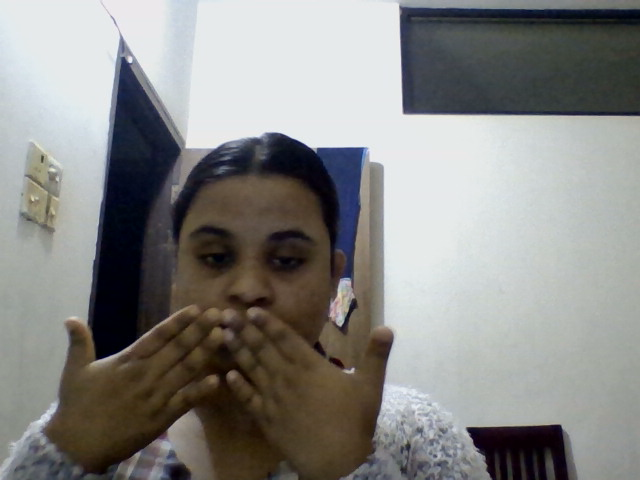Thank You: (9, 125, 489, 449)
